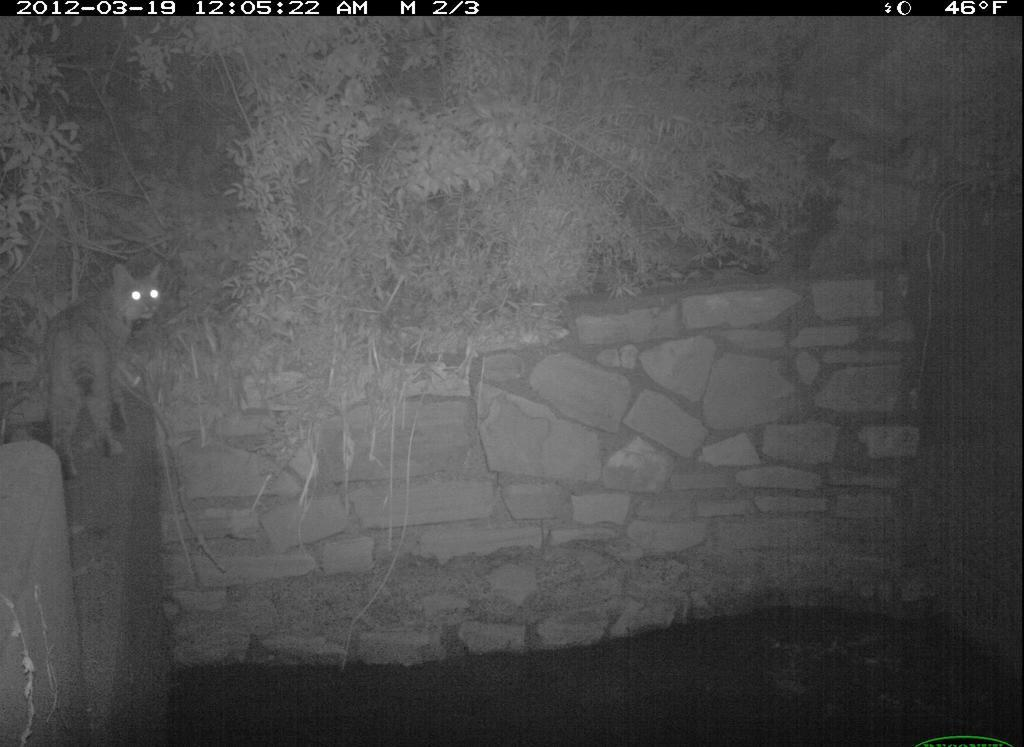bobcat: (43, 260, 171, 482)
